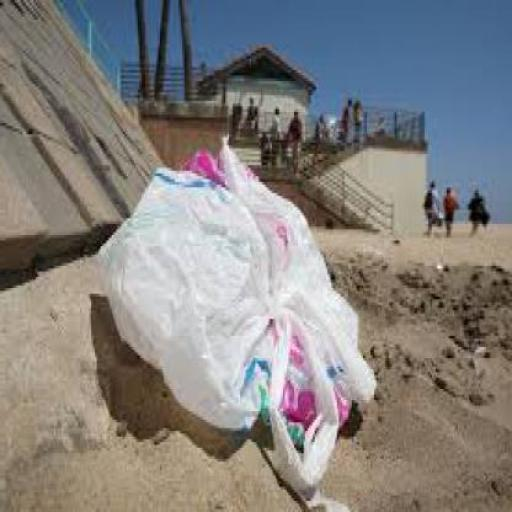plastic: (89, 132, 380, 478)
